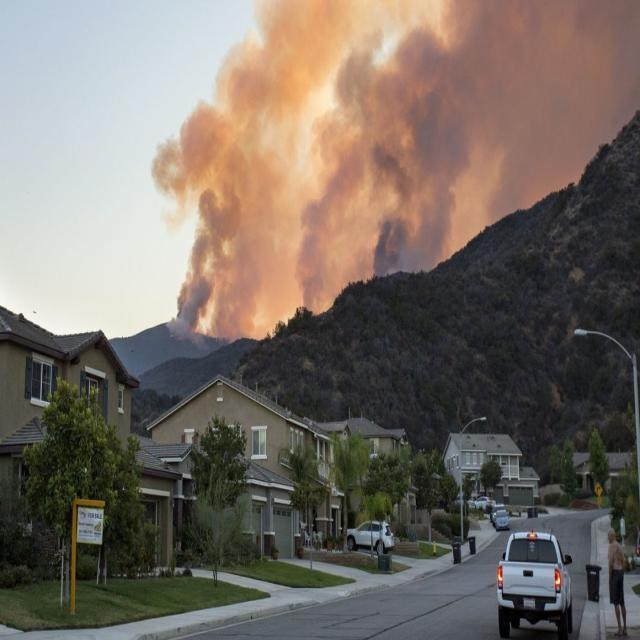Smoke: (159, 6, 640, 299)
